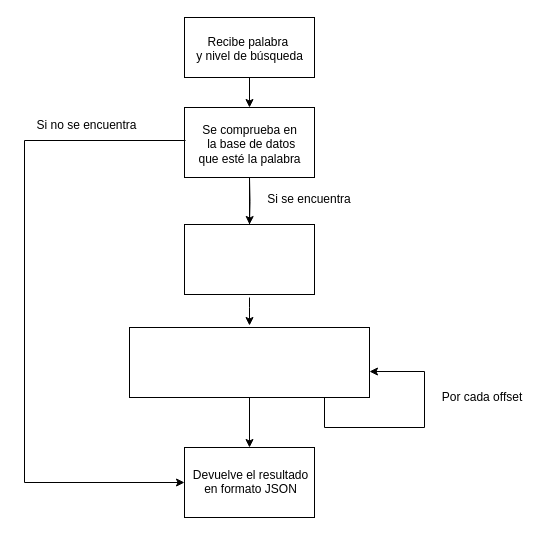
The diagram is 550 pixels wide and 535 high, and some of its shapes have lost their labels. Here are the shapes that lost their labels. From the top down, the centre of each, then its label:
At [249,259]: "Devuelve los offset de la palabra junto con los sinónimos".
At [249,362]: "Según el nivel de búsqueda, se busca si el sinónimo está en las palabras fáciles".
